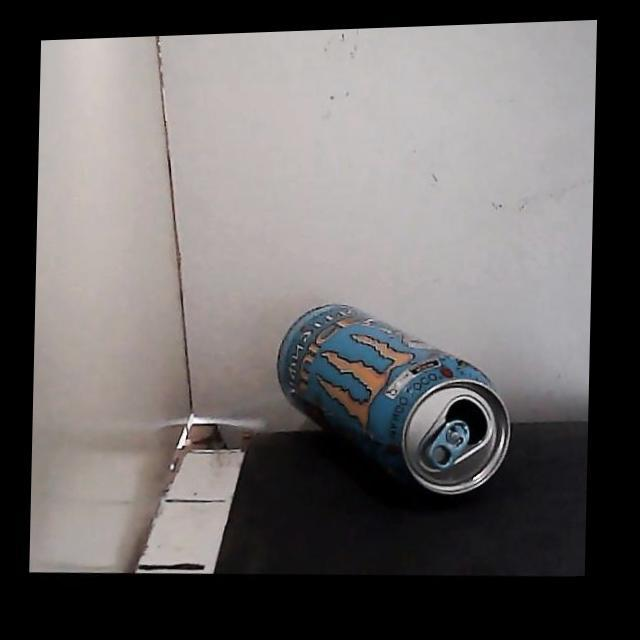metal: (278, 304, 510, 494)
